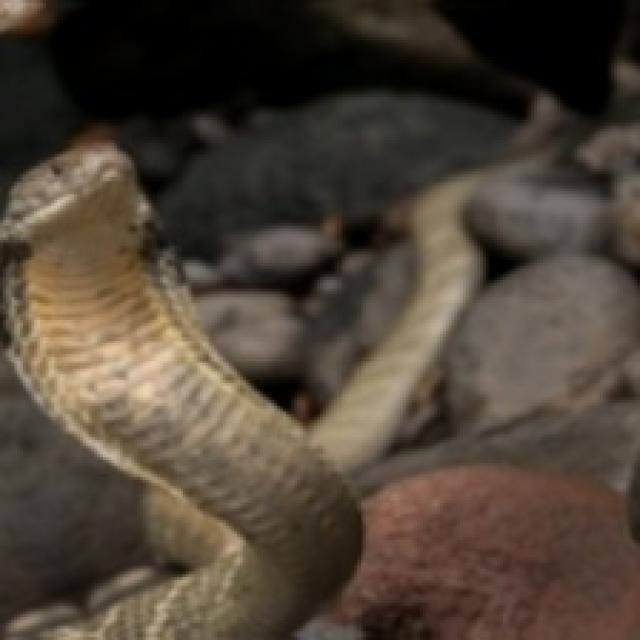king cobra: (0, 140, 489, 637)
